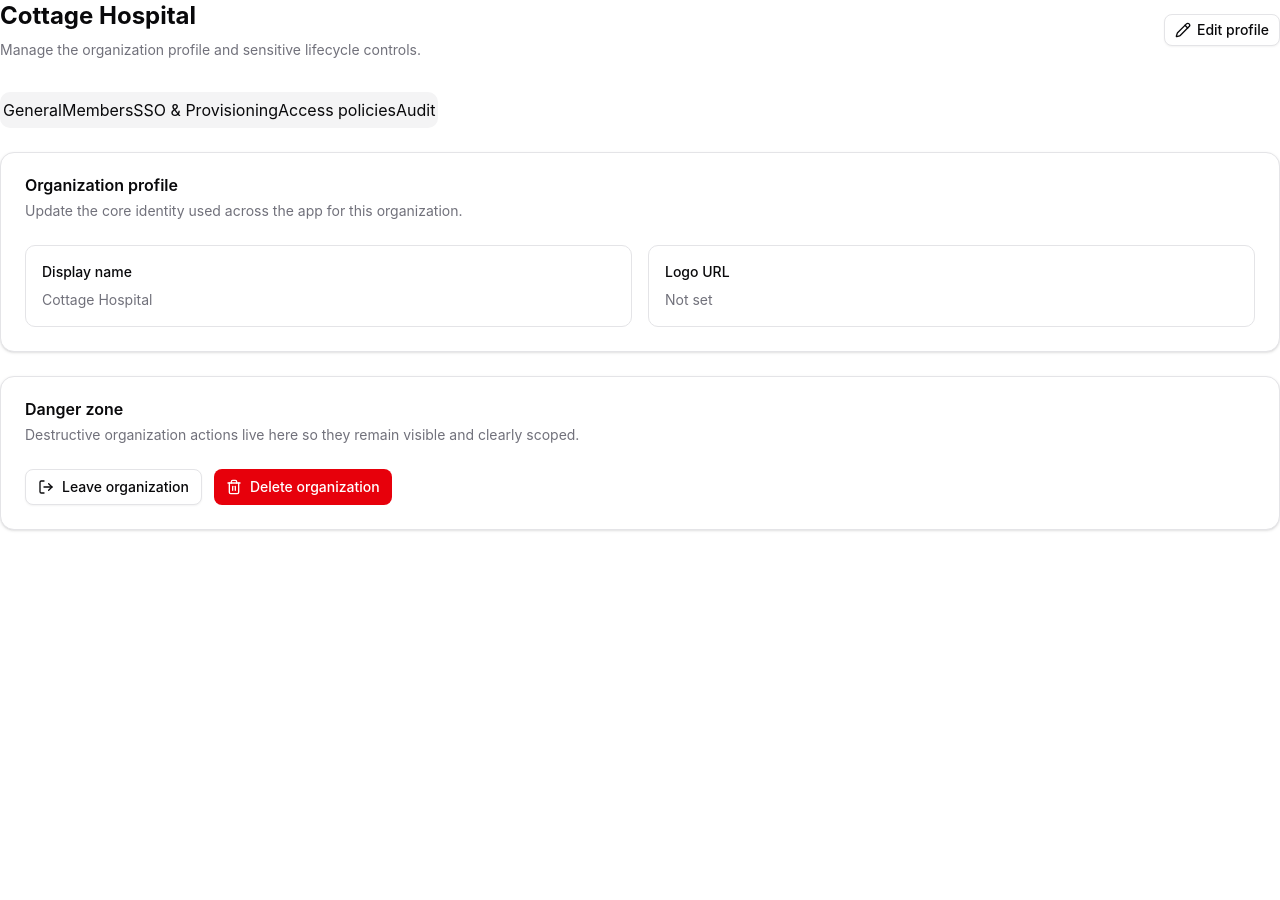
it: OrganizationSettingsManagement › opens the delete confirmation dialog from the danger zone
Click the button "Delete organization". click: x=303, y=487
box: [214,469,392,505]
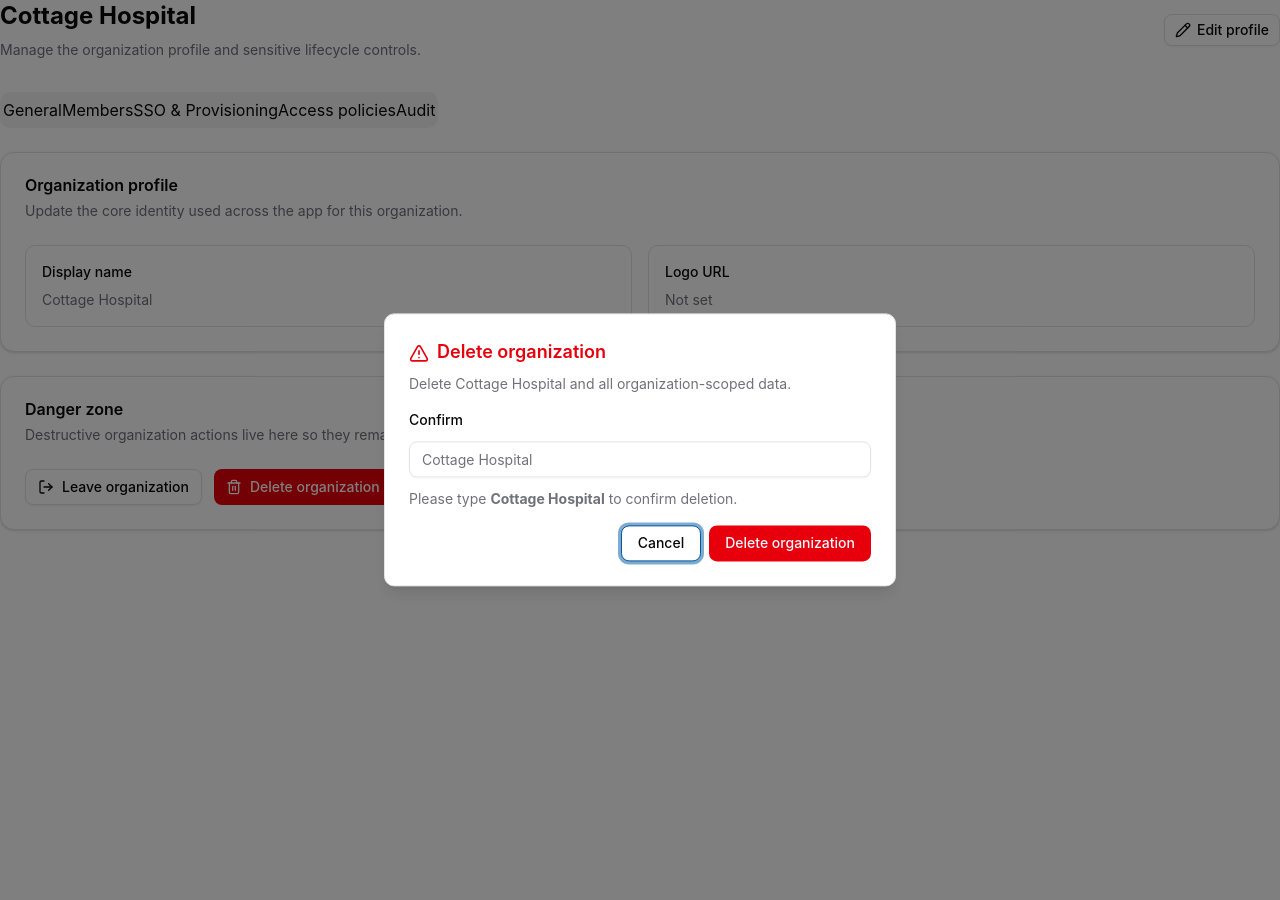
Now the heading "Delete organization" is shown, box [409,341,606,364]
Now the text "Delete Cottage Hospital and all organization-scoped data." is shown, box [409,375,791,392]
